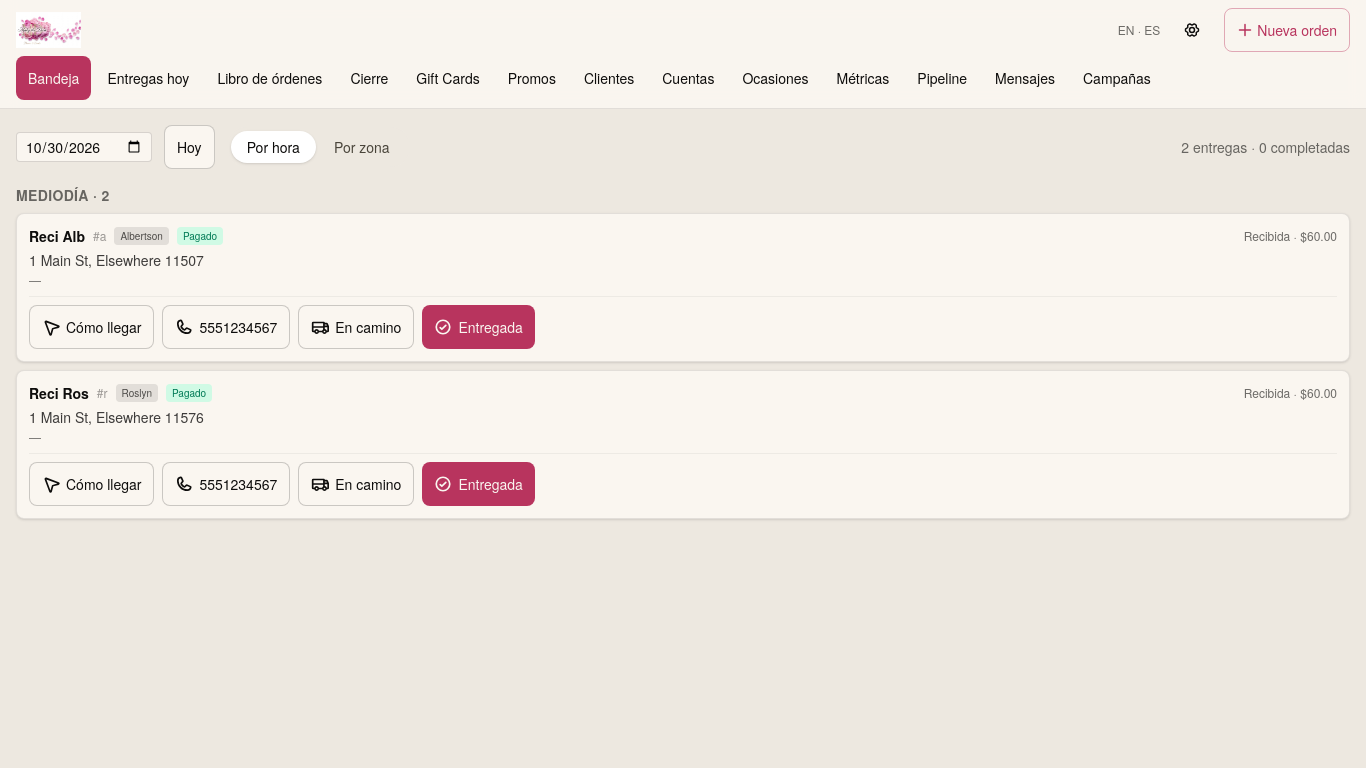
it: RunSheetView deliver › Entregada opens the deliver sheet instead of PATCHing
Expected: the text "Reci Ros" is shown, [29,383,89,403]
Step 1. Click the button "Entregada" below "Albertson" → [479, 327], box [422,305,535,349]
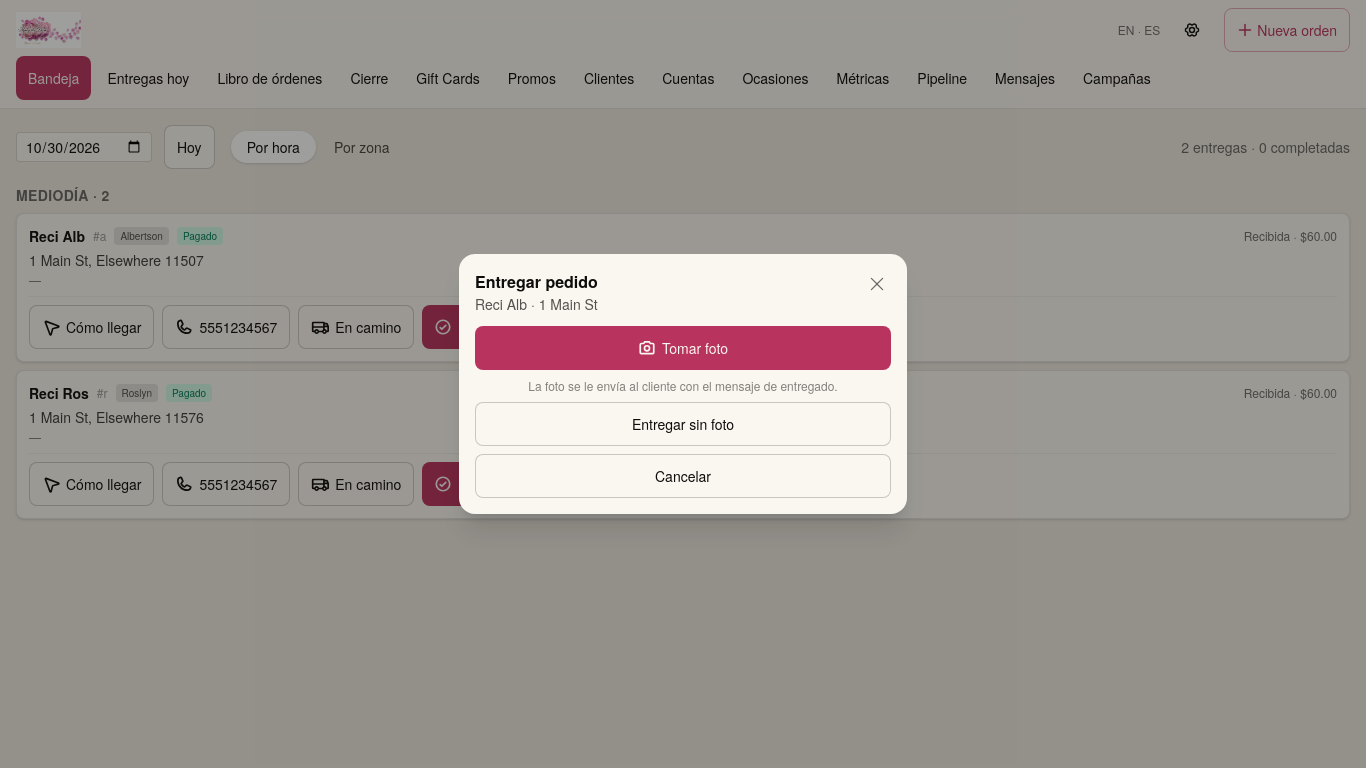
Expected: the dialog "Entregar pedido" is shown
